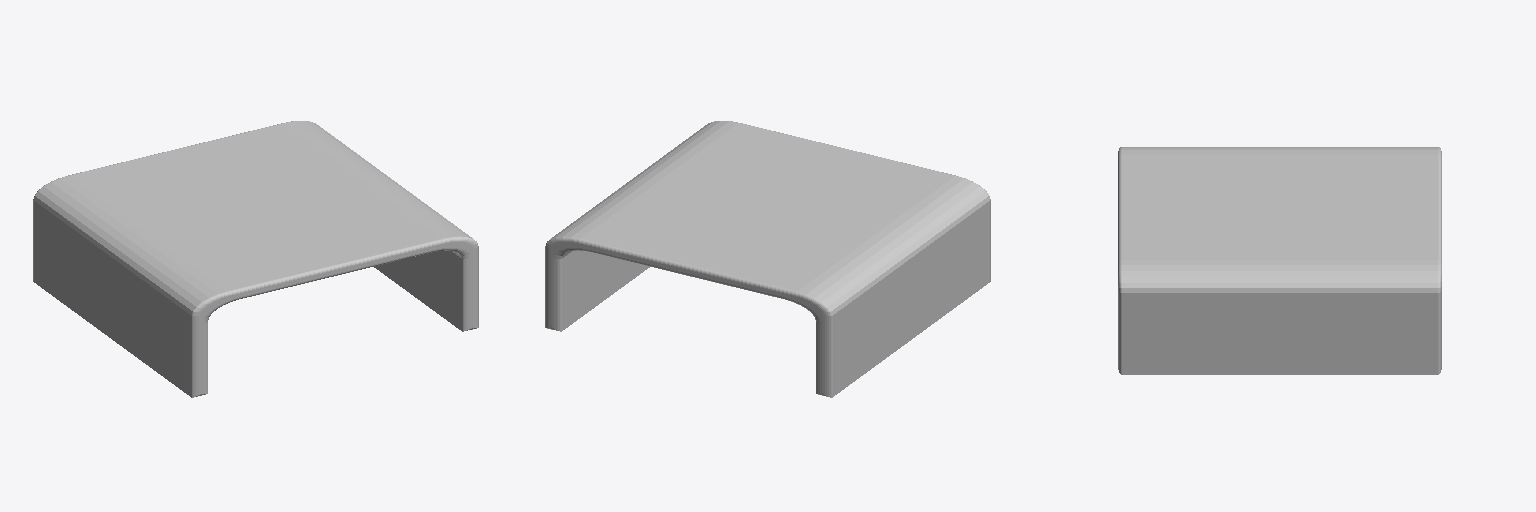
File: TUNNEL.obj
3 renders of one model, left to right at view 1: azimuth 30°, elevation 25°; view 2: azimuth 150°, elevation 25°; view 3: azimuth 270°, elevation 25°, orthographic.
Visible parts, largest first — view 1: Cube.001; view 2: Cube.001; view 3: Cube.001.
Boxes of the visible parts, x1,y1,x2,y2 form: Cube.001: [33, 121, 478, 397]; Cube.001: [545, 121, 990, 397]; Cube.001: [1118, 147, 1441, 374].
Size of the model in its own units: 30.75 by 10 by 30.